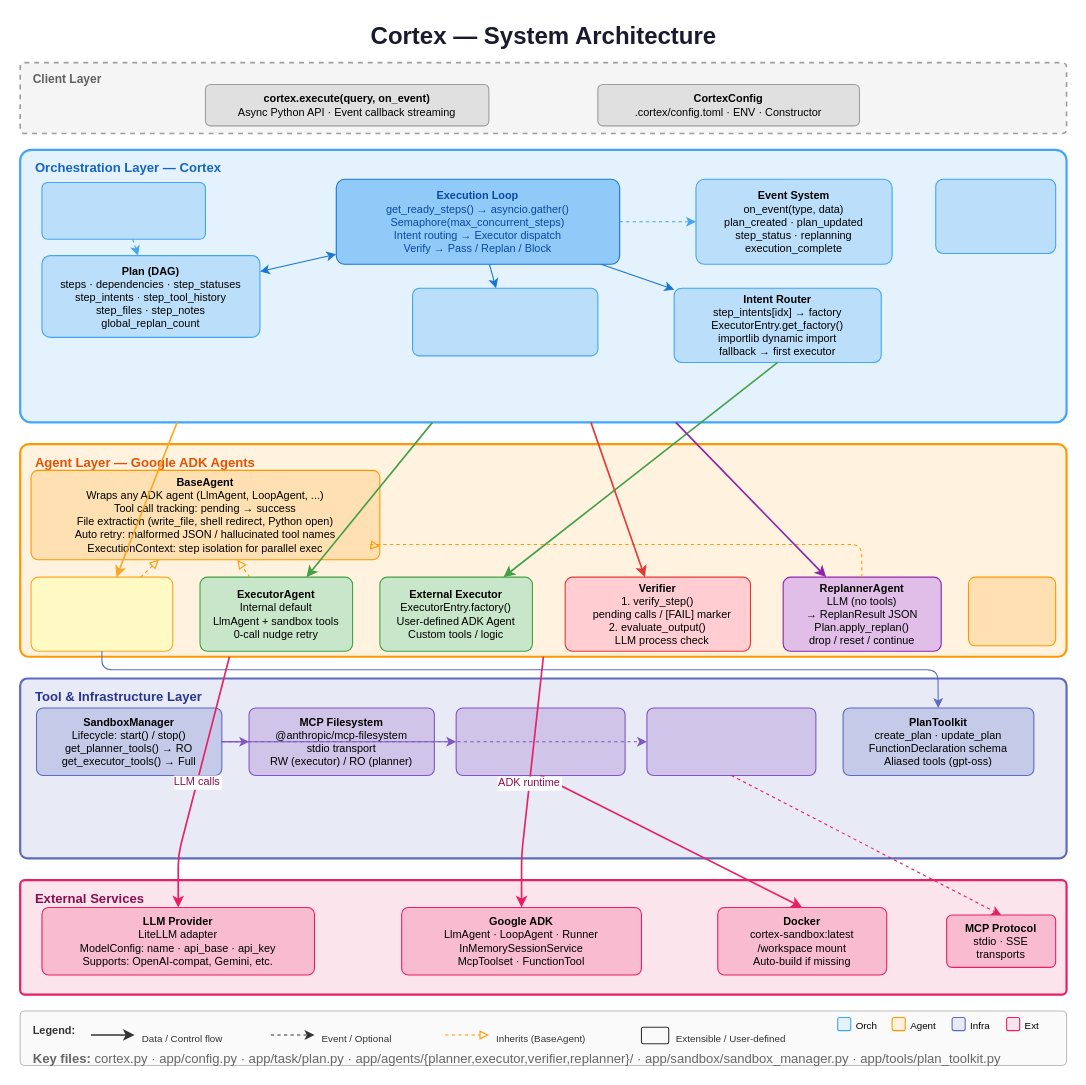
The diagram is 1086 pixels wide and 1085 high, and some of its shapes have lost their labels. Here are the shapes that lost their labels. From the top down, the centre of each, then its label:
the point at 123,210: TaskManager Singleton · Thread-safe dict[plan_id, Plan]
the point at 995,215: TuningConfig max_concurrent_steps: 3 max_retries: 3 max_replan_attempts: 2
the point at 504,321: Aggregator LlmAgent (inline) Synthesize step_outputs → final coherent result
the point at 101,613: PlannerAgent Tools: create_plan, update_plan + RO filesystem + intent injection
the point at 1011,611: GenericLoop Loop sub-agents exit_loop_action
the point at 540,741: MCP Shell shell_server.py docker exec → container run_command tool
the point at 731,741: User MCP Servers MCPStdio | MCPSse config.mcp_servers[] Custom toolsets
